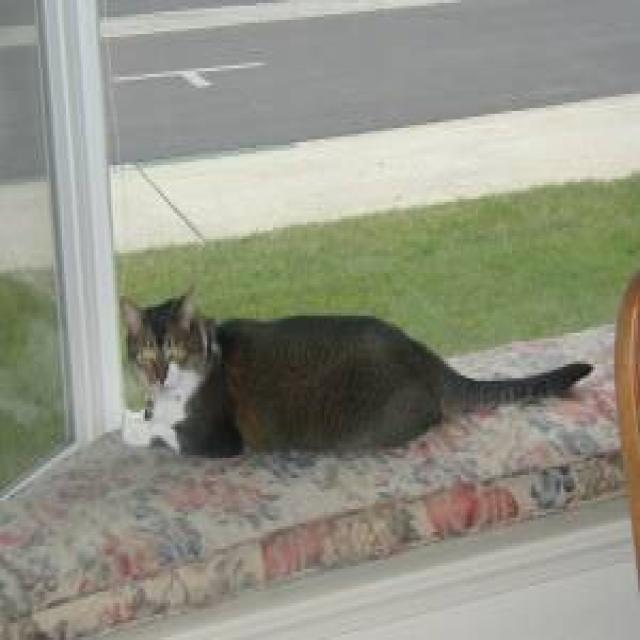Abyssinian: (115, 279, 194, 390)
